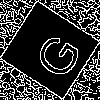G: (25, 25, 85, 83)
